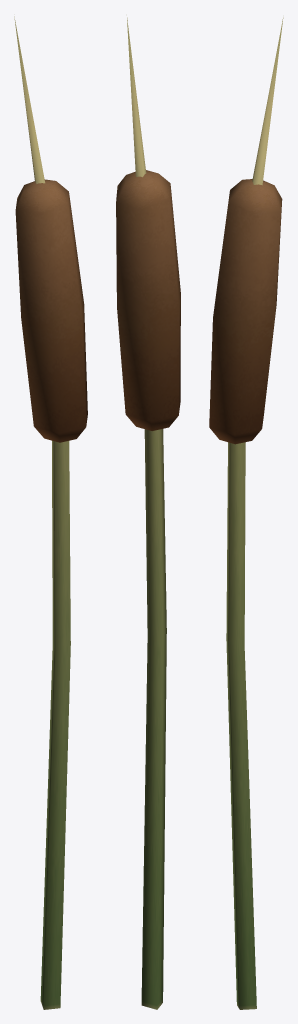
Rendered from Cattail_3.glb.
3 renders of one model, left to right at view 1: azimuth 90°, elevation 25°; view 2: azimuth 150°, elevation 25°; view 3: azimuth 270°, elevation 25°, orthographic.
Visible parts, largest first — view 1: Sphere.022, Cube.080; view 2: Sphere.022, Cube.080; view 3: Sphere.022, Cube.080.
Part boxes in pixels (x1,y1,x2,y2): Sphere.022: (15, 179, 87, 442); Cube.080: (14, 16, 70, 1009); Sphere.022: (116, 170, 180, 430); Cube.080: (127, 17, 166, 1009); Sphere.022: (209, 179, 282, 444); Cube.080: (226, 17, 283, 1009).
Bounding box in the file's own units: 0.0455 × 0.7027 × 0.0476.
Materials: 2 (2 with a texture image).
